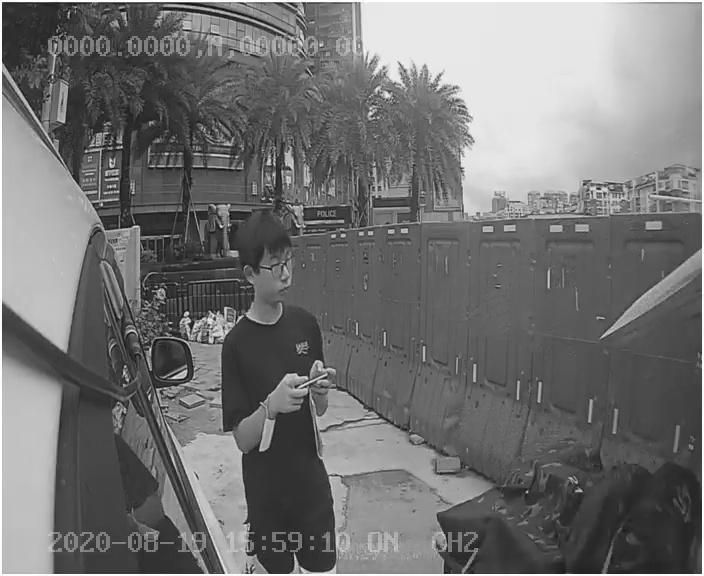person: (205, 214, 351, 529)
